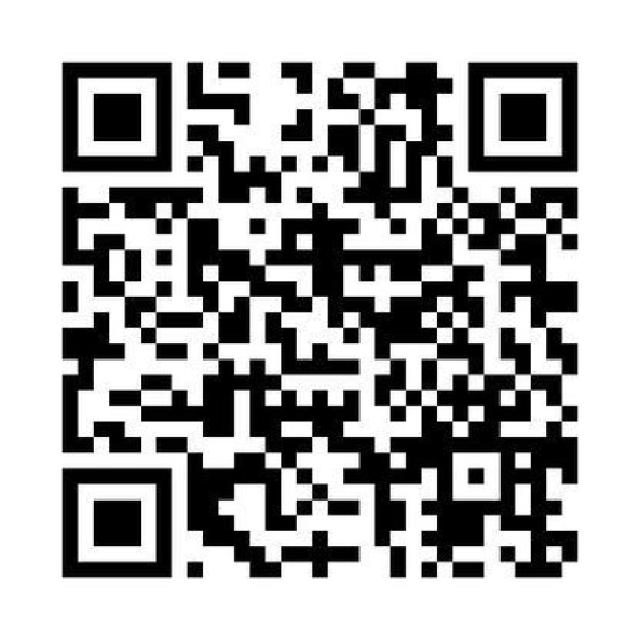QRCode: (50, 48, 589, 587)
